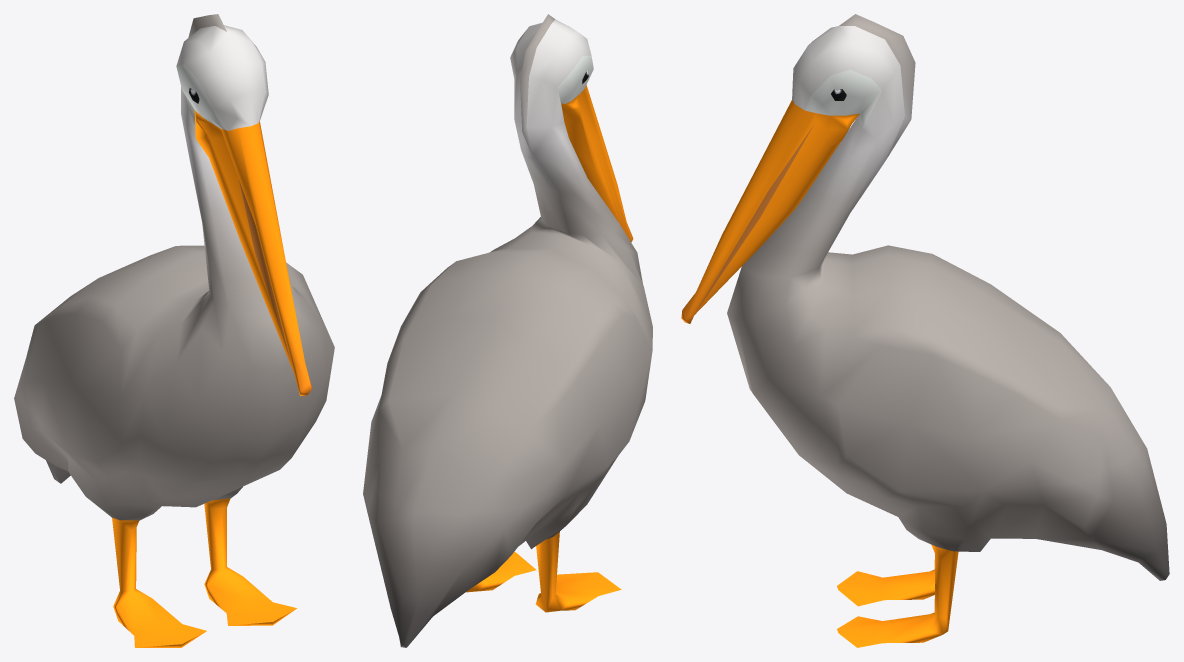
3 renders of one model, left to right at view 1: azimuth 30°, elevation 25°; view 2: azimuth 150°, elevation 25°; view 3: azimuth 270°, elevation 25°, orthographic. The views are drawn at different scales.
Parts seen in each view (by area): view 1: Pelican; view 2: Pelican; view 3: Pelican.
Part boxes in pixels (<box>): Pelican: <box>14,14,334,647</box>; Pelican: <box>363,14,652,647</box>; Pelican: <box>681,14,1169,647</box>.
Size of what is drawn, in the model's own units: 0.4325 by 1.1 by 0.8097.
1 material, 1 textured.
